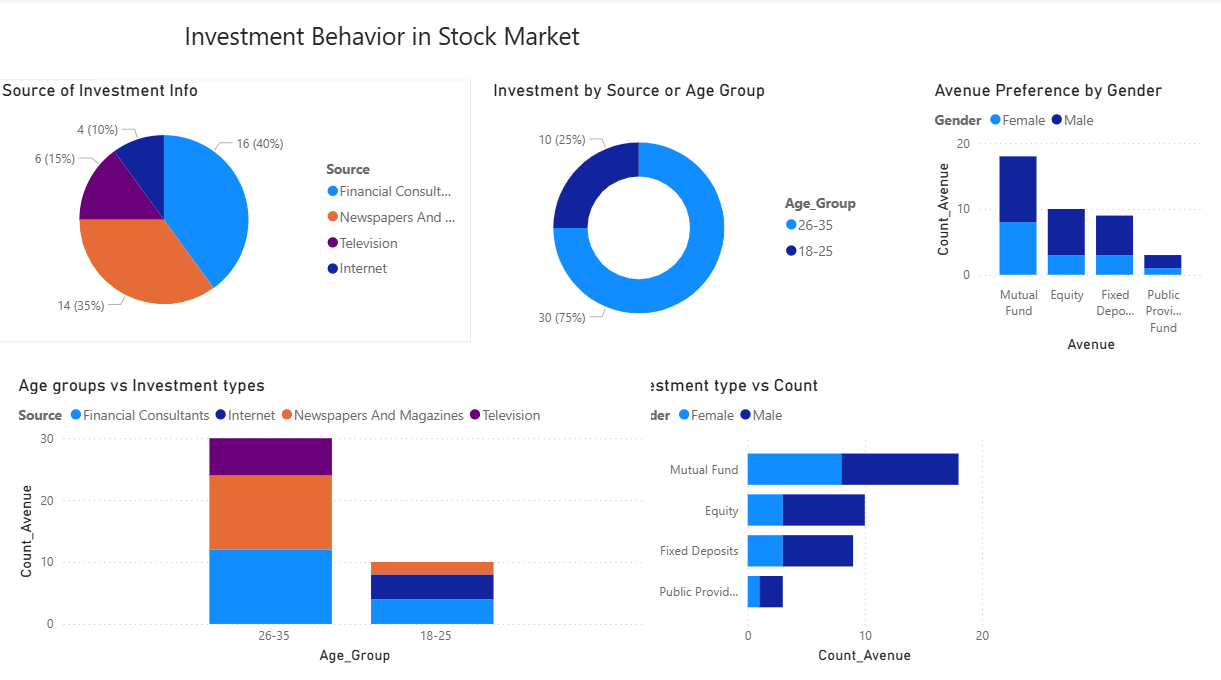

Layout of this report page (visuals, bound fields, positions):
{"tool":"powerbi","page":{"name":"Dashboard","canvas":[1280,720],"ordinal":0},"visuals":[{"type":"barChart","title":"Investment type vs Count","fields":{"Category":["Finance_data.Avenue"],"Y":["Finance_data.Count_Avenue"],"Series":["Finance_data.Gender"]},"box":[608,368,368,288],"z":0},{"type":"donutChart","title":"Investment by Source or Age Group","fields":{"Category":["Finance_data.Age_Group"],"Y":["Finance_data.Count_Avenue"]},"box":[480,80,384,272],"z":1000},{"type":"columnChart","title":"Age groups vs Investment types","fields":{"Category":["Finance_data.Age_Group"],"Y":["Finance_data.Count_Avenue"],"Series":["Finance_data.Source"]},"box":[16,368,624,288],"z":2000},{"type":"columnChart","title":"Avenue Preference by Gender","fields":{"Category":["Finance_data.Avenue"],"Y":["Finance_data.Count_Avenue"],"Series":["Finance_data.Gender"]},"box":[912,80,272,272],"z":3000},{"type":"pieChart","title":"Source of Investment Info","fields":{"Y":["Finance_data.Count_Source"],"Category":["Finance_data.Source"]},"box":[0,80,464,256],"z":4000},{"type":"textbox","box":[96,16,560,64],"z":5000}]}

Visuals, with their boxes in screenshot pixels (x1, y1, x2, y2), scaled from the page's 1280x720 canvas onto the 1221x680 screenshot:
"Investment type vs Count" barChart: region(580, 348, 931, 620)
"Investment by Source or Age Group" donutChart: region(458, 76, 824, 332)
"Age groups vs Investment types" columnChart: region(15, 348, 610, 620)
"Avenue Preference by Gender" columnChart: region(870, 76, 1129, 332)
"Source of Investment Info" pieChart: region(0, 76, 443, 317)
textbox: region(92, 15, 626, 76)
